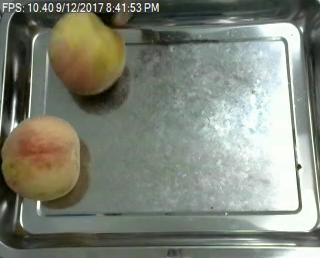Peach: (1, 115, 82, 203), (48, 10, 126, 96)
